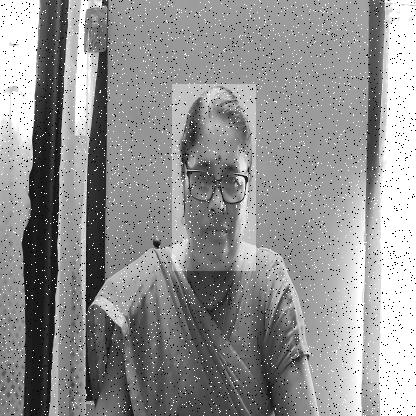Normal: (172, 84, 256, 271)
